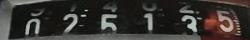digits: (214, 9, 234, 33), (100, 14, 118, 40), (61, 12, 78, 37), (180, 15, 197, 39), (23, 18, 41, 38), (143, 13, 155, 35)
